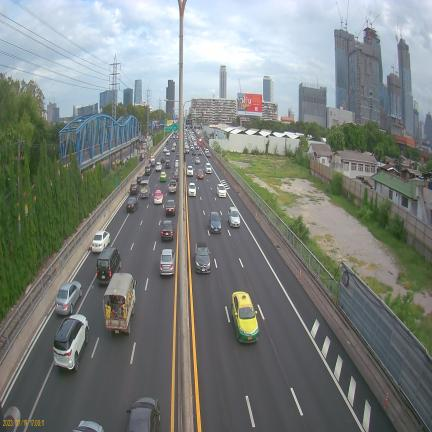car: (53, 314, 89, 371), (127, 397, 160, 432), (55, 281, 82, 315), (96, 247, 121, 283), (195, 242, 211, 273), (91, 231, 110, 252), (160, 249, 175, 275), (72, 420, 104, 432), (208, 212, 221, 233), (161, 220, 174, 240), (228, 207, 240, 227), (126, 197, 139, 212), (166, 199, 176, 216), (217, 183, 226, 197), (129, 182, 138, 194), (188, 183, 196, 196), (205, 162, 212, 173), (149, 157, 156, 167), (197, 169, 204, 179), (136, 175, 143, 185), (155, 162, 162, 171), (187, 166, 193, 176), (173, 170, 178, 180), (205, 149, 211, 157), (165, 159, 170, 168), (195, 156, 200, 164), (160, 155, 165, 163), (175, 159, 179, 169), (171, 145, 175, 152), (185, 147, 189, 154), (163, 147, 167, 153), (198, 149, 202, 155), (166, 150, 170, 156), (192, 149, 196, 155), (176, 151, 179, 159)
human: (106, 300, 111, 318)
pickup: (140, 180, 150, 199), (168, 179, 177, 193)
taxi: (232, 292, 259, 342), (154, 190, 163, 204), (160, 172, 166, 182)
van: (103, 273, 136, 334), (145, 165, 151, 175)
